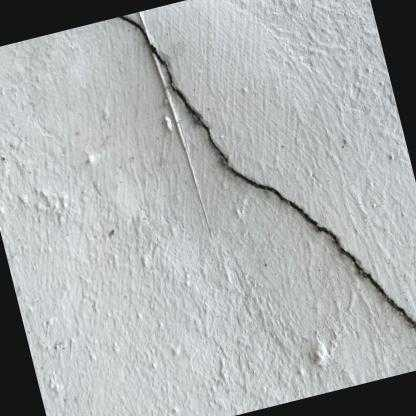crack: (118, 16, 416, 329)
